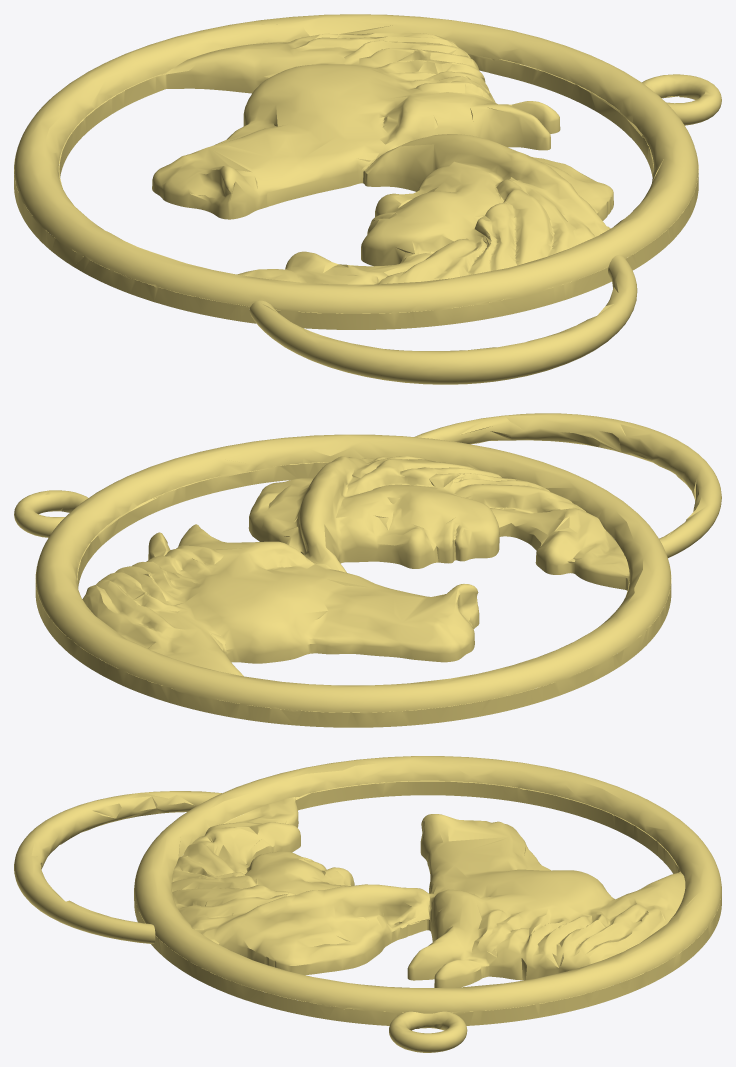
The model's file is kowboy.glb.
3 renders of one model, top to bottom at view 1: azimuth 30°, elevation 25°; view 2: azimuth 150°, elevation 25°; view 3: azimuth 270°, elevation 25°, orthographic. The views are drawn at different scales.
Parts seen in each view (by area): view 1: Renderer Node; view 2: Renderer Node; view 3: Renderer Node.
Boxes of the visible parts, x1=… form: Renderer Node: x1=14, y1=14, x2=721, y2=384; Renderer Node: x1=14, y1=413, x2=721, y2=727; Renderer Node: x1=14, y1=756, x2=721, y2=1052.
Bounding box in the file's own units: 33.18 × 3 × 36.12.
